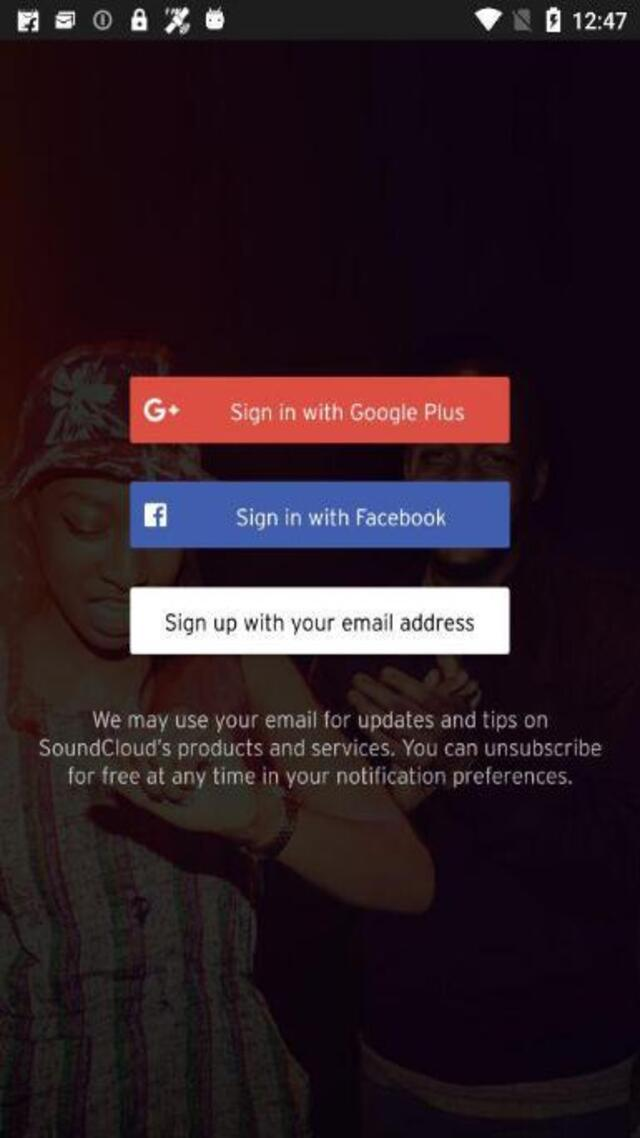Icon: (138, 395, 180, 425), (143, 502, 169, 528)
Text: (62, 764, 576, 792), (35, 736, 610, 759), (85, 709, 555, 732), (160, 608, 485, 637), (232, 506, 449, 534), (225, 402, 468, 426)
TextButton: (128, 375, 510, 443), (130, 586, 508, 654), (132, 481, 510, 547)
